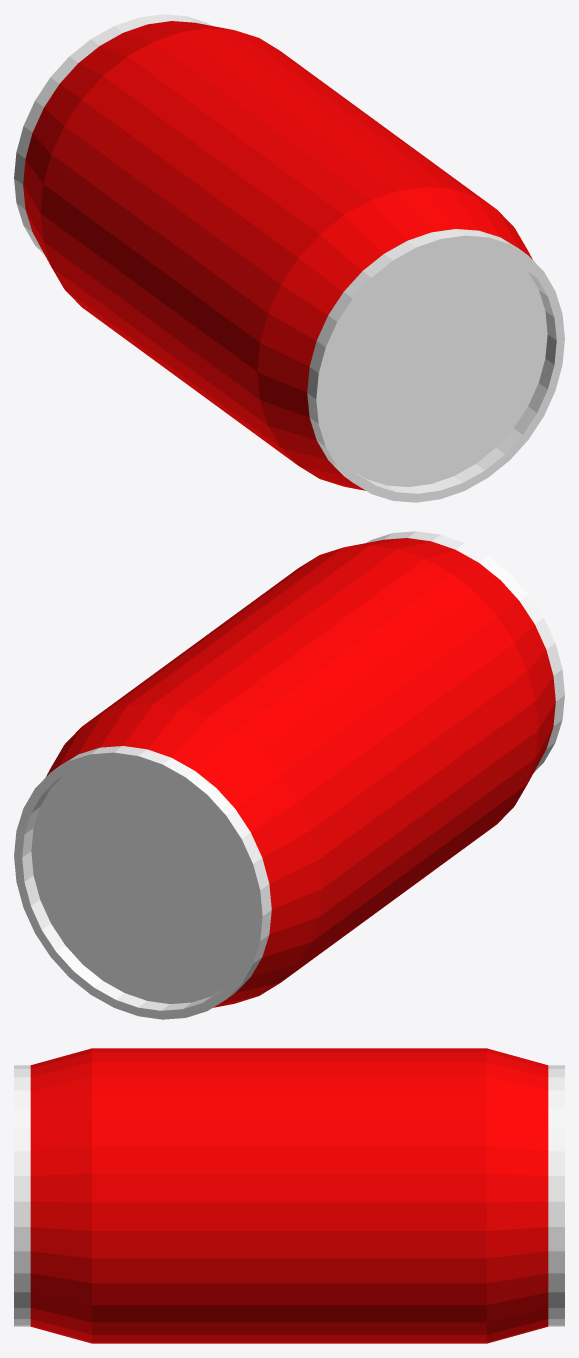
The model's file is SodaCan_JosephWang.fbx.
3 views of the same model, one above another, from view 1: azimuth 30°, elevation 25°; view 2: azimuth 150°, elevation 25°; view 3: azimuth 270°, elevation 25° (orthographic). The views are drawn at different scales.
Visible parts, largest first — view 1: Cylinder; view 2: Cylinder; view 3: Cylinder.
Part boxes in pixels (x1=…): Cylinder: x1=14, y1=14, x2=564, y2=502; Cylinder: x1=14, y1=531, x2=564, y2=1019; Cylinder: x1=14, y1=1048, x2=564, y2=1343.
Size of the model in its own units: 200 by 200 by 373.
